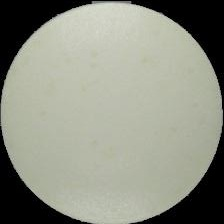49999-868: (0, 0, 224, 224)
